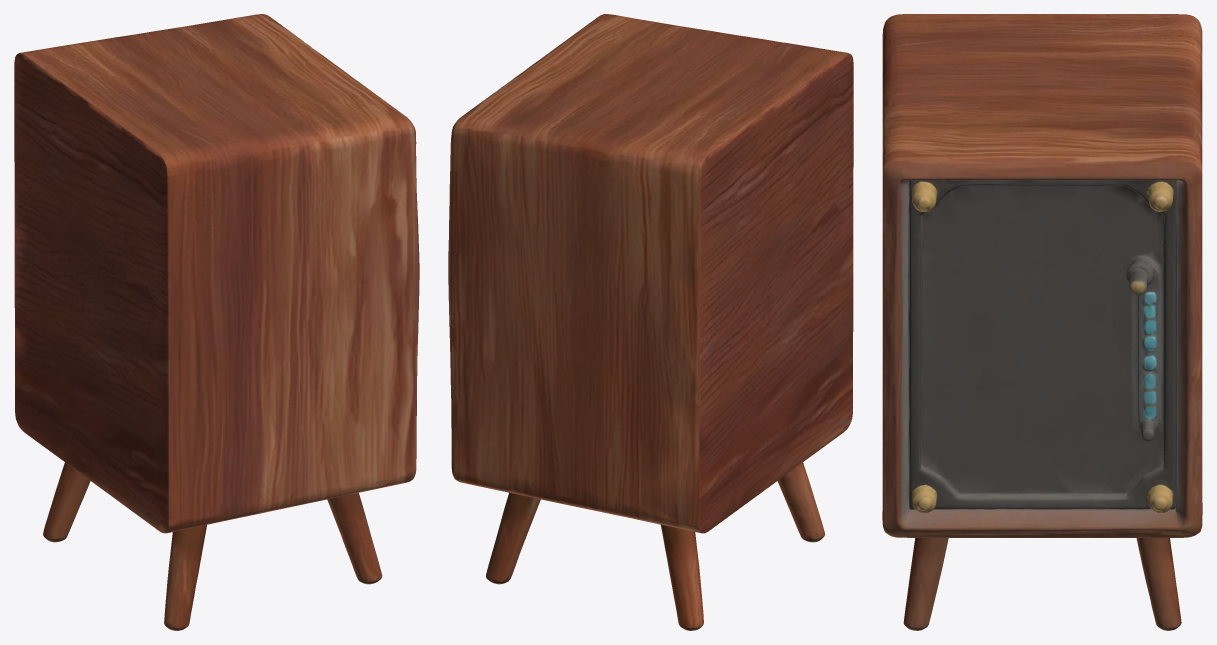
The model's file is speaker.glb.
The picture shows the model from 3 angles, left to right: view 1: azimuth 30°, elevation 25°; view 2: azimuth 150°, elevation 25°; view 3: azimuth 270°, elevation 25°; orthographic projection. The views are drawn at different scales.
Visible parts, largest first — view 1: tripo_node_887fdf26-a714-45a7-b6f1-c5a67280dc38; view 2: tripo_node_887fdf26-a714-45a7-b6f1-c5a67280dc38; view 3: tripo_node_887fdf26-a714-45a7-b6f1-c5a67280dc38.
Part boxes in pixels (<box>): tripo_node_887fdf26-a714-45a7-b6f1-c5a67280dc38: <box>14,14,419,630</box>; tripo_node_887fdf26-a714-45a7-b6f1-c5a67280dc38: <box>448,14,853,630</box>; tripo_node_887fdf26-a714-45a7-b6f1-c5a67280dc38: <box>882,14,1202,630</box>.
Bounding box in the file's own units: 0.5875 × 1 × 0.5749.
Materials: 1 (1 with a texture image).
